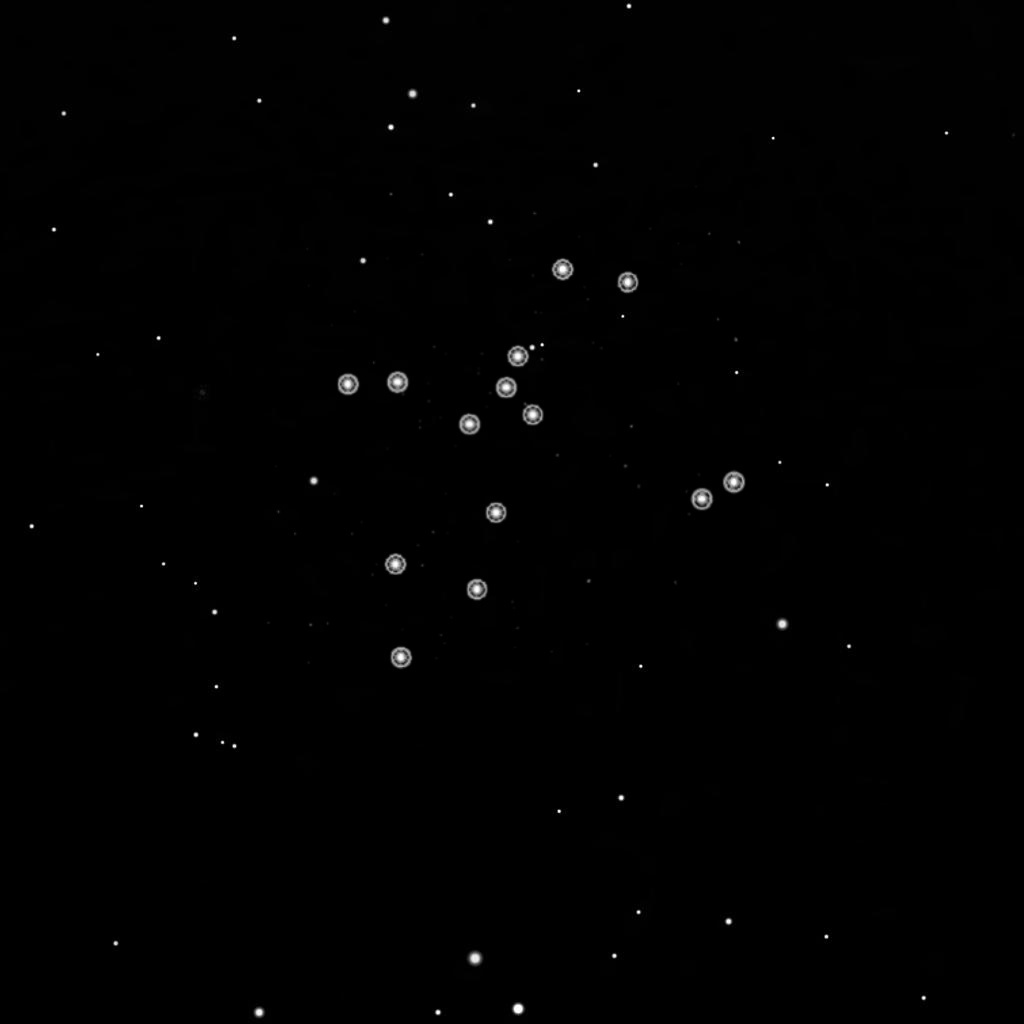canis_major: (453, 253, 642, 442)
